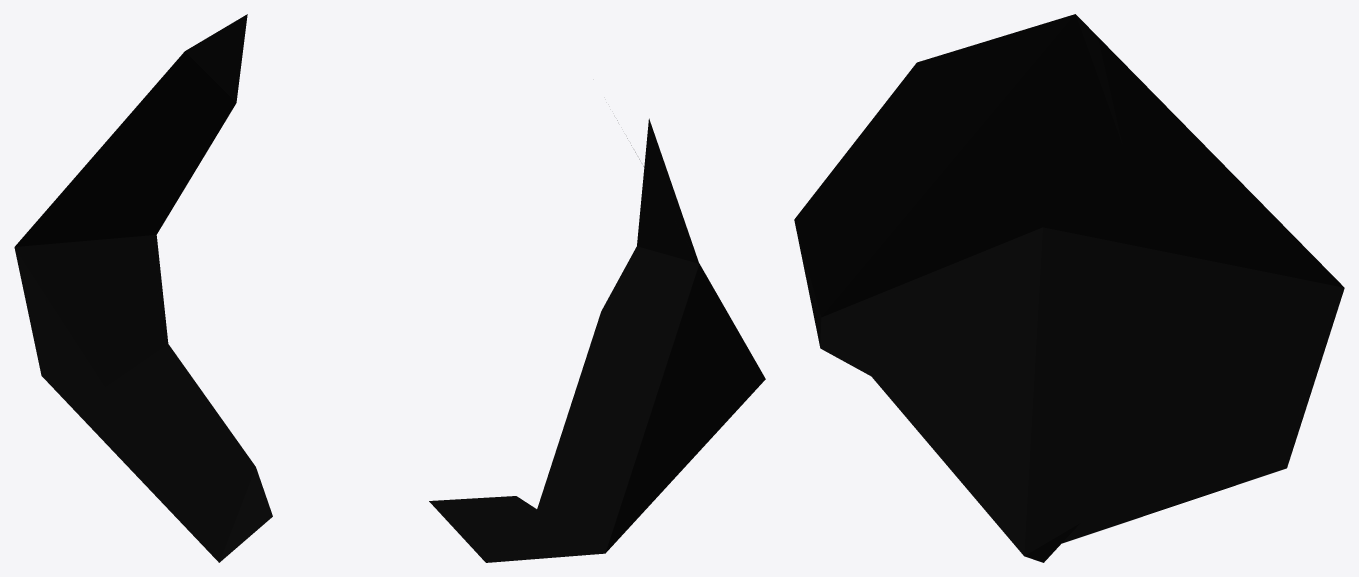
The picture shows the model from 3 angles, left to right: view 1: azimuth 30°, elevation 25°; view 2: azimuth 150°, elevation 25°; view 3: azimuth 270°, elevation 25°; orthographic projection. The views are drawn at different scales.
Size of the model in its own units: 0.159 by 0.3331 by 0.3026.
Materials: 1 (1 with a texture image).
